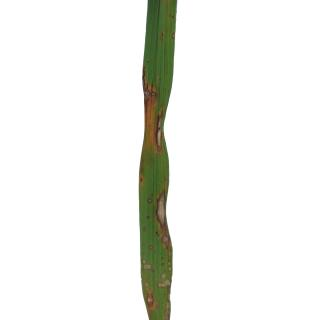Blast: (156, 190, 168, 250), (144, 72, 156, 110), (155, 109, 165, 154), (141, 288, 161, 309)
